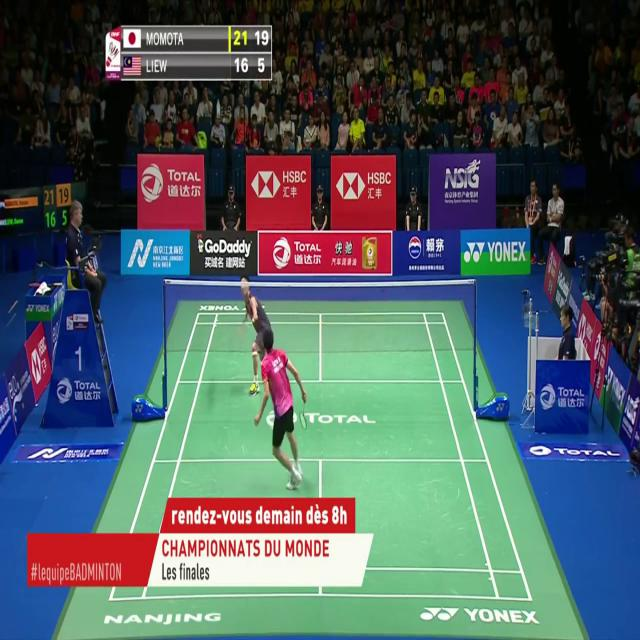Shuttlecock: (215, 102, 221, 113)
